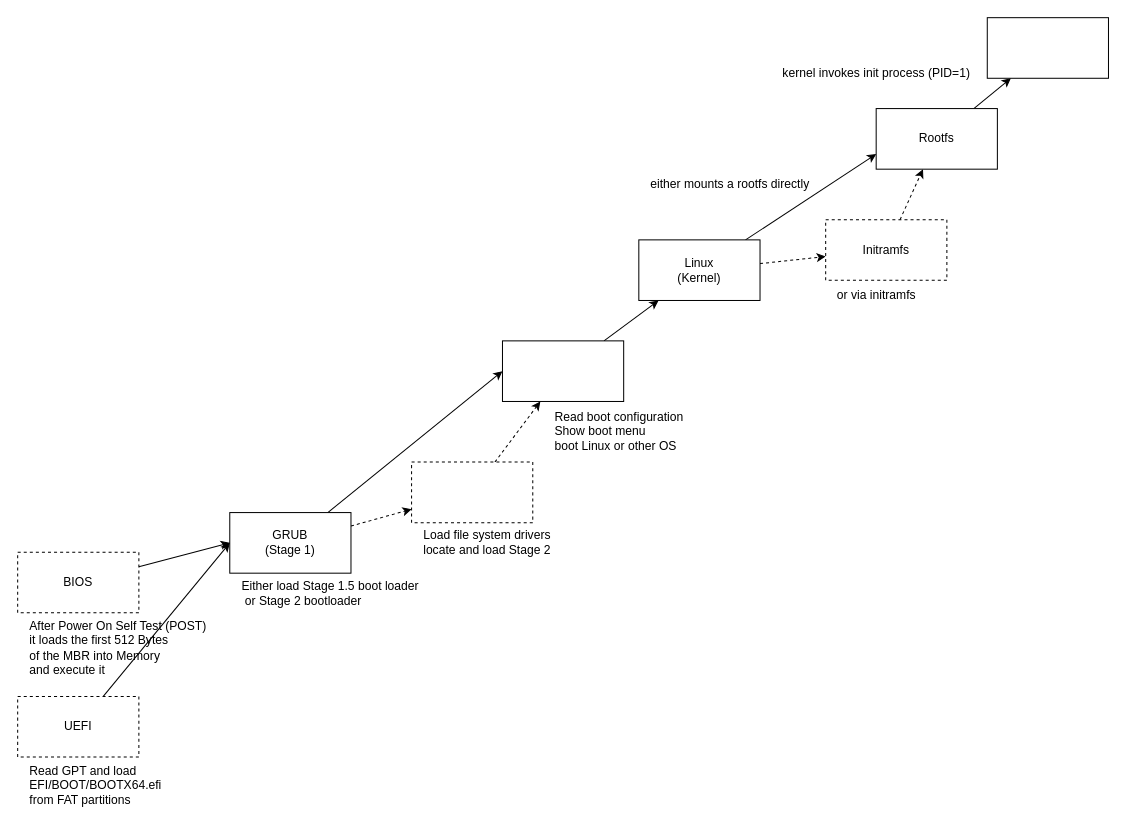
The diagram is 1126 pixels wide and 830 high, and some of its shapes have lost their labels. The shapes that lost their labels are listed below. From the top down, each one's box as (x1, y1, x2, y2) in pixels, then its label:
(986, 17, 1108, 78): Init
(501, 340, 624, 401): GRUB (Stage 2)
(411, 461, 533, 523): GRUB (Stage 1.5)
